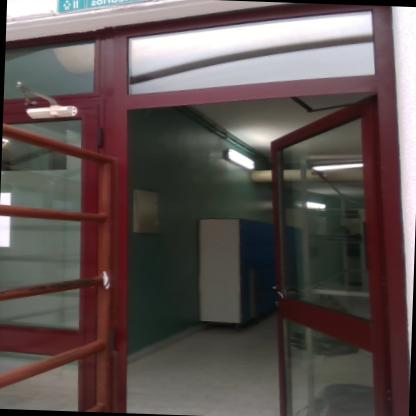semi: (105, 61, 400, 416)
